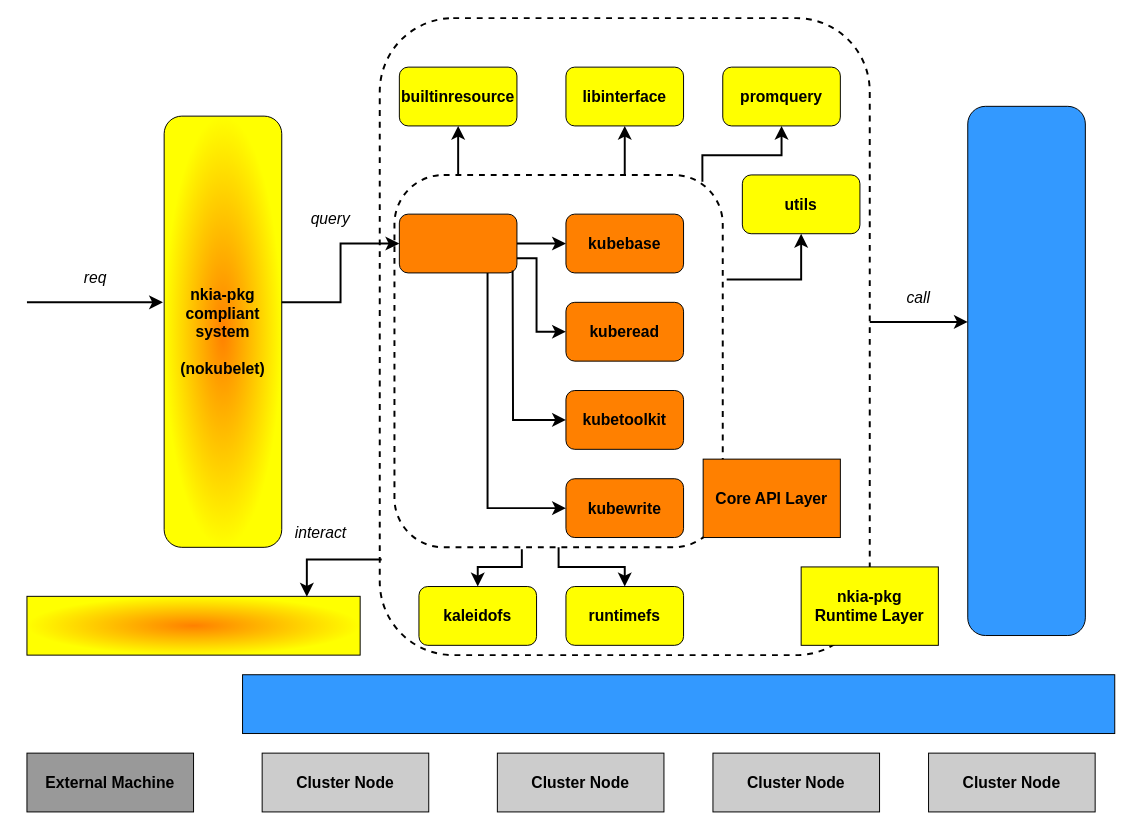
The diagram is 1132 pixels wide and 829 high, and some of its shapes have lost their labels. Here are the shapes that lost their labels. From the top down, the centre of each, then its label:
point 457,243: apistandard
point 1026,370: Kubernetes API Server
point 193,625: nkia-pkg Runtime
point 678,704: Kubernetes Cluster
